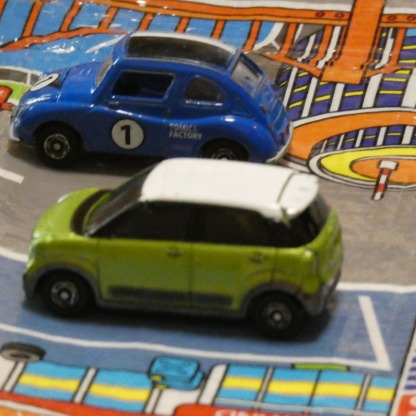car: (18, 157, 341, 331), (8, 31, 296, 169)
